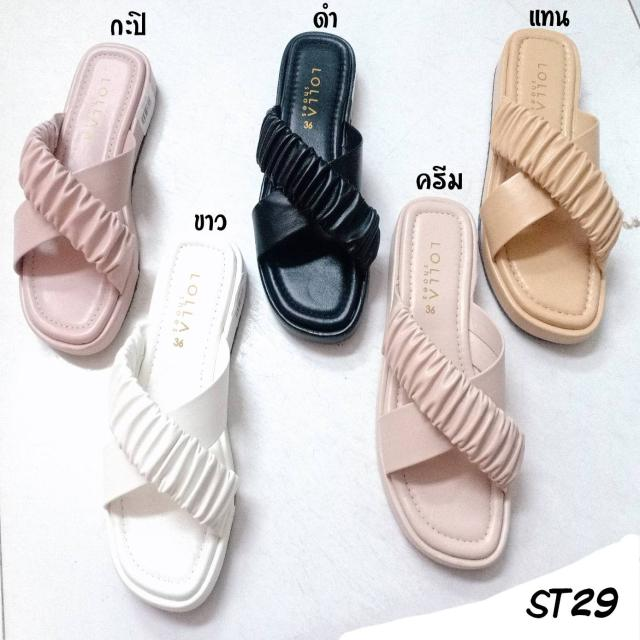black: (261, 34, 364, 334)
cream: (387, 197, 509, 568)
kapi: (18, 40, 150, 345)
tan: (492, 29, 602, 338)
white: (107, 233, 250, 613)
